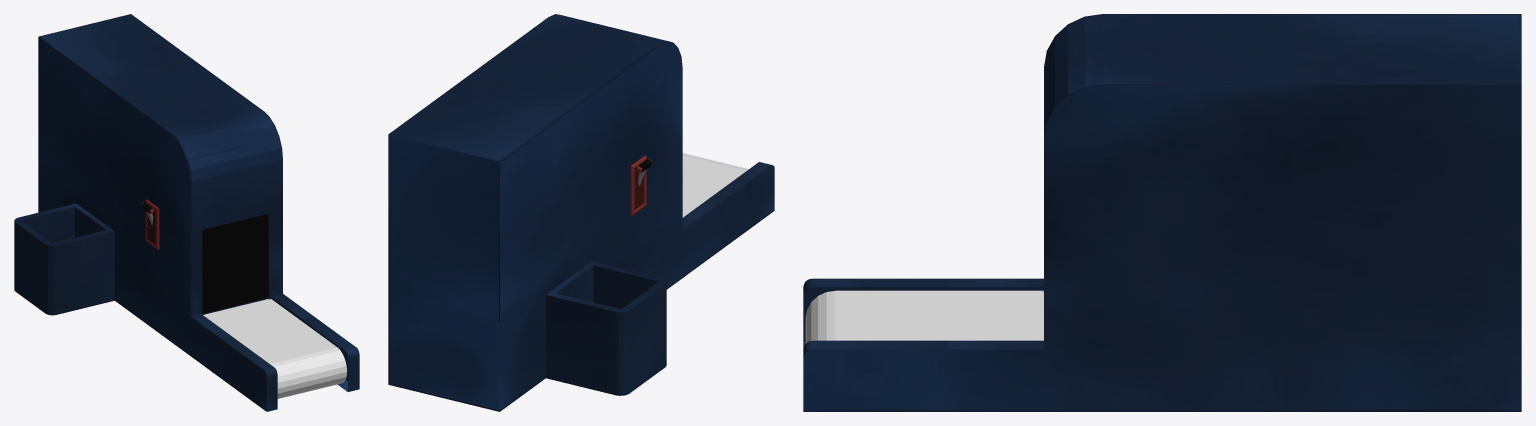
The model's file is machine.fbx.
3 renders of one model, left to right at view 1: azimuth 30°, elevation 25°; view 2: azimuth 150°, elevation 25°; view 3: azimuth 270°, elevation 25°, orthographic. The views are drawn at different scales.
Parts seen in each view (by area): view 1: Cube, Cube.001, Cube.003, Cube.002; view 2: Cube, Cube.001, Cube.002; view 3: Cube.
Boxes of the visible parts, x1=… form: Cube: x1=38, y1=14, x2=359, y2=411; Cube.001: x1=14, y1=203, x2=114, y2=315; Cube.003: x1=202, y1=213, x2=268, y2=314; Cube.002: x1=145, y1=199, x2=159, y2=249; Cube: x1=388, y1=14, x2=774, y2=411; Cube.001: x1=546, y1=261, x2=666, y2=395; Cube.002: x1=630, y1=155, x2=646, y2=215; Cube: x1=803, y1=14, x2=1521, y2=411.
Bounding box in the file's own units: 238 × 300 × 597.
